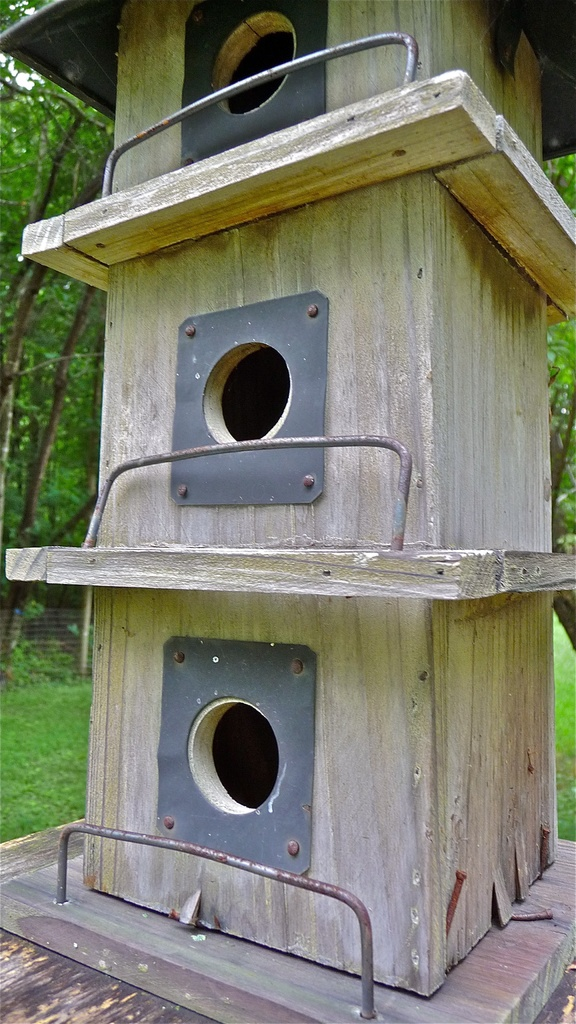Tree: (0, 0, 575, 687)
